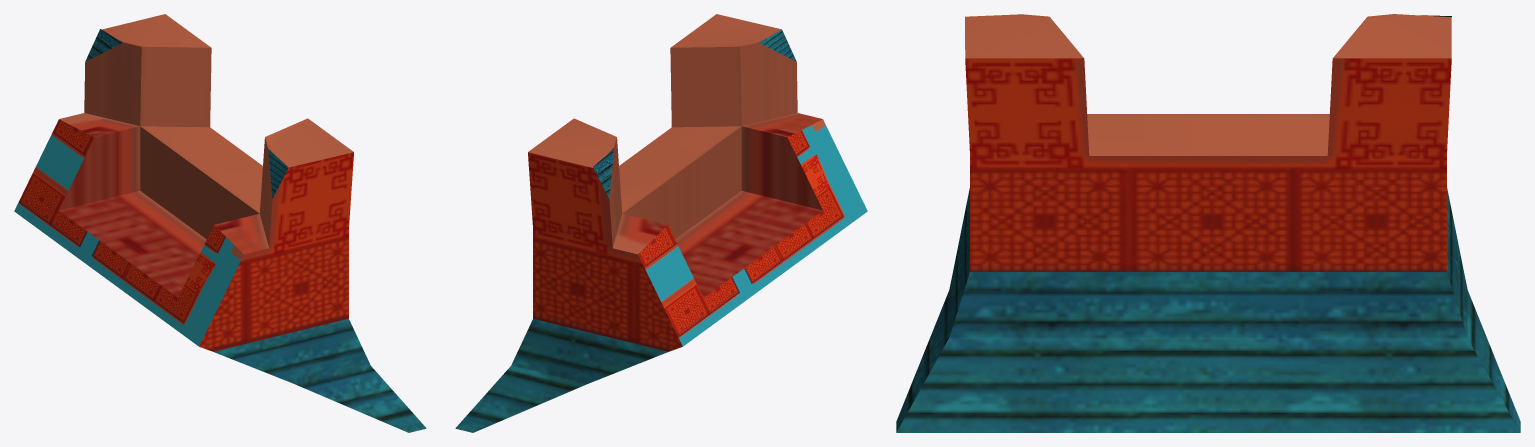
Rendered from borkertower02.FBX.
3 views of the same model, side by side, from view 1: azimuth 30°, elevation 25°; view 2: azimuth 150°, elevation 25°; view 3: azimuth 270°, elevation 25° (orthographic). The views are drawn at different scales.
Visible parts, largest first — view 1: Box001; view 2: Box001; view 3: Box001.
Part boxes in pixels (<box>): Box001: <box>14,14,426,432</box>; Box001: <box>455,14,867,432</box>; Box001: <box>896,14,1520,432</box>.
Bounding box in the file's own units: 25.08 × 33.27 × 52.82.
